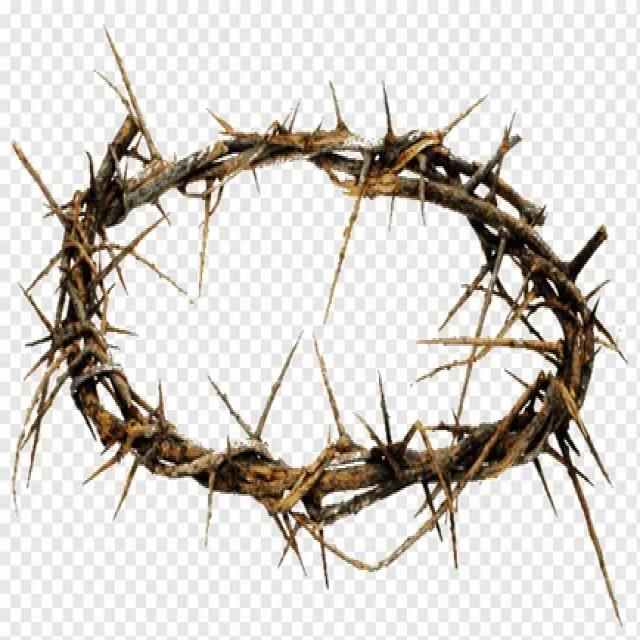crown: (46, 89, 618, 546)
